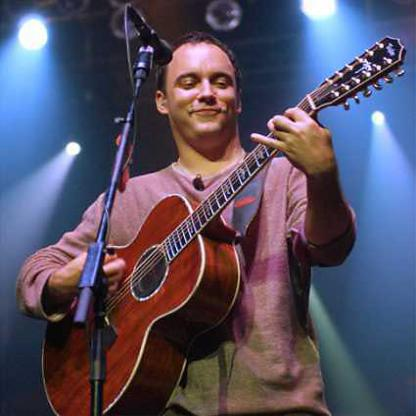face: (165, 35, 240, 138)
